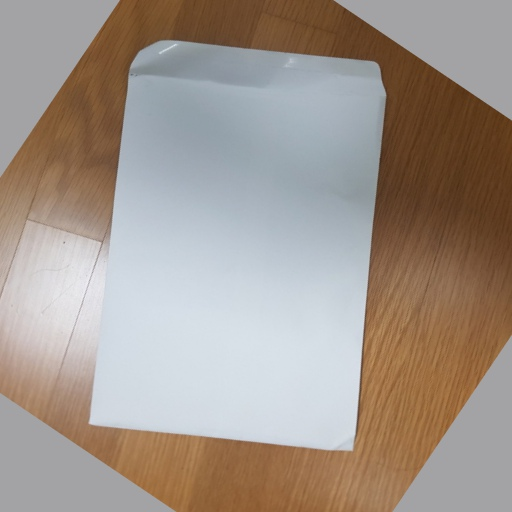Paper_2: (92, 35, 388, 457)
